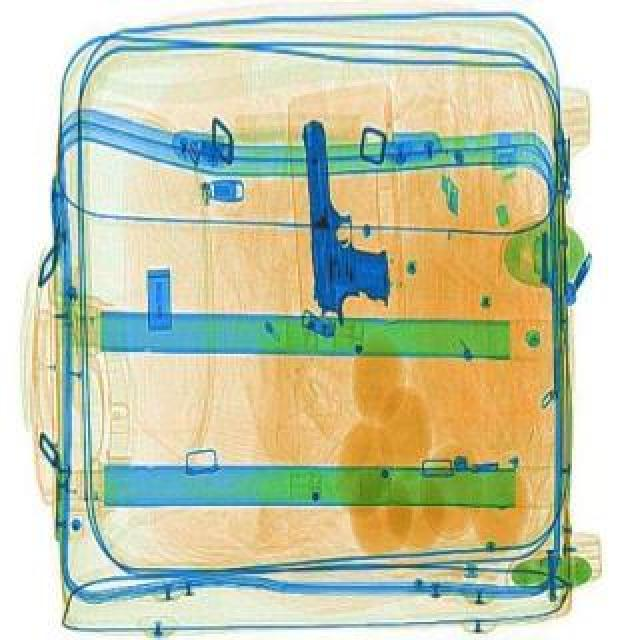gun: (292, 110, 396, 330)
